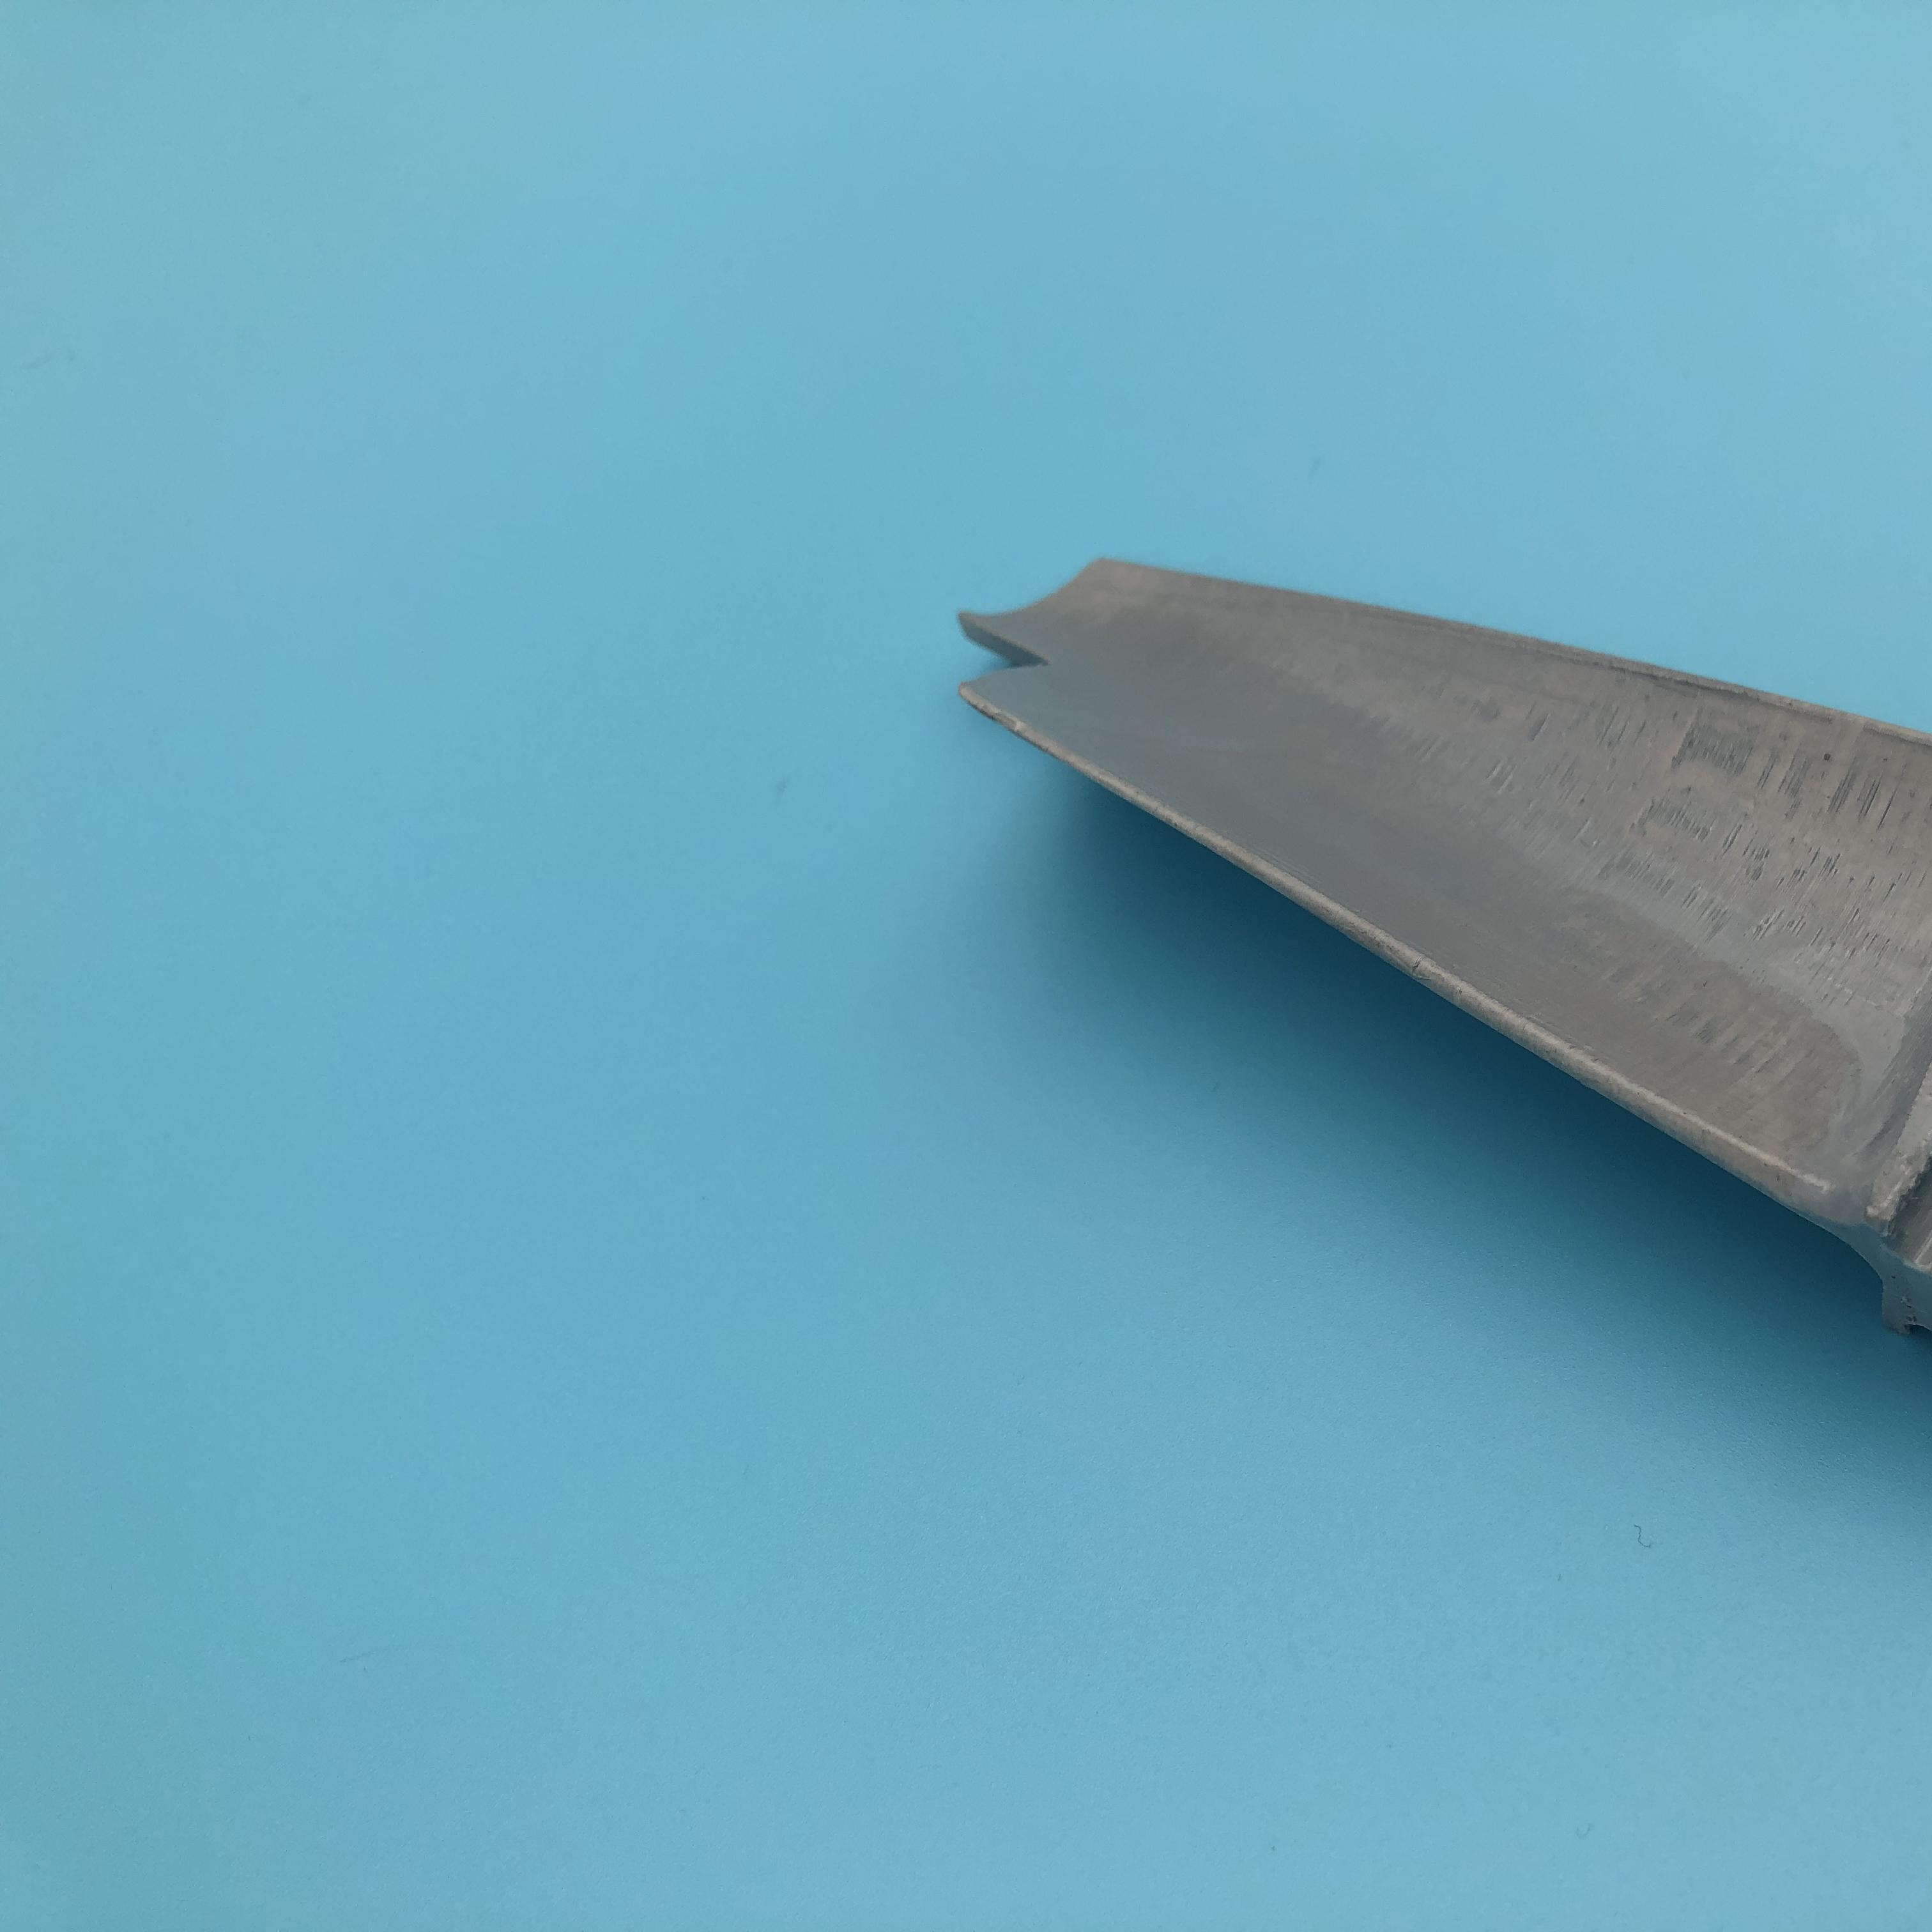fracture: (915, 612, 1079, 722)
